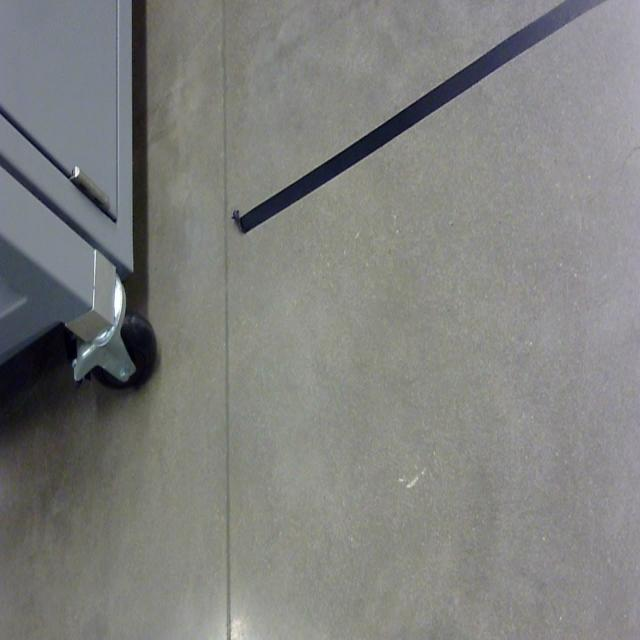tape: (234, 2, 600, 239)
